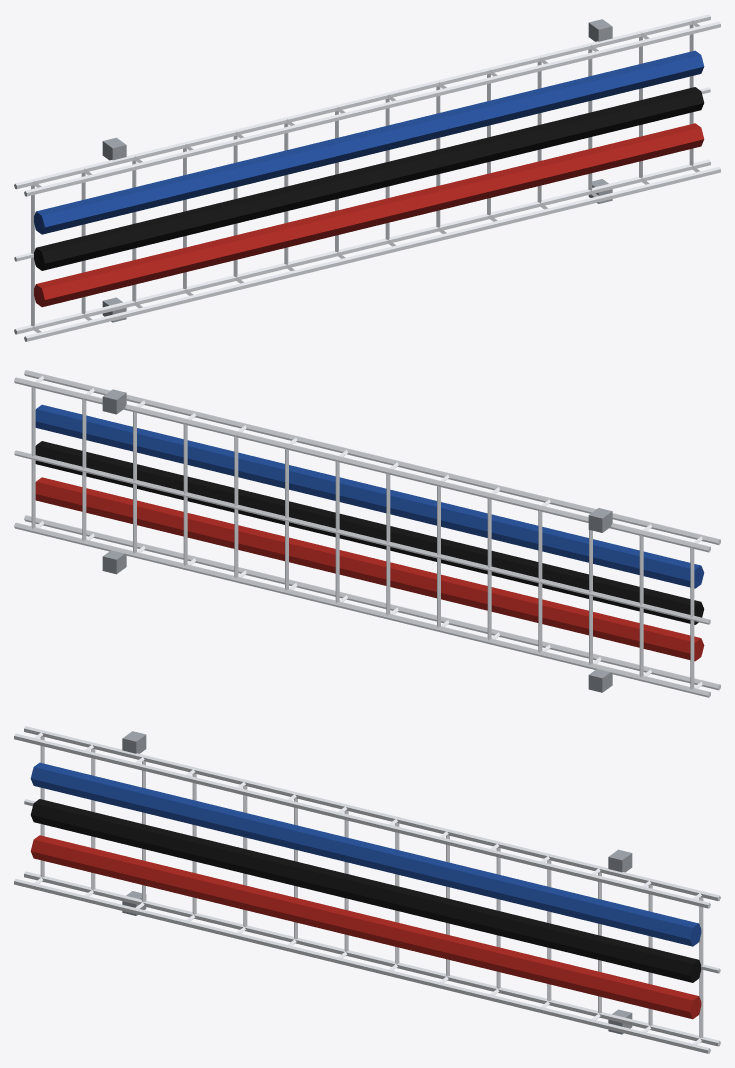
The model's file is cabletray_wire_basket.glb.
3 views of the same model, one above another, from view 1: azimuth 30°, elevation 25°; view 2: azimuth 150°, elevation 25°; view 3: azimuth 330°, elevation 25° (orthographic).
Parts seen in each view (by area): view 1: cabletray_wire_basket; view 2: cabletray_wire_basket; view 3: cabletray_wire_basket.
Boxes of the visible parts, x1,y1,x2,y2 form: cabletray_wire_basket: [14, 14, 720, 341]; cabletray_wire_basket: [14, 370, 720, 697]; cabletray_wire_basket: [14, 726, 720, 1053].
Size of the model in its own units: 2 by 0.48 by 0.11.
